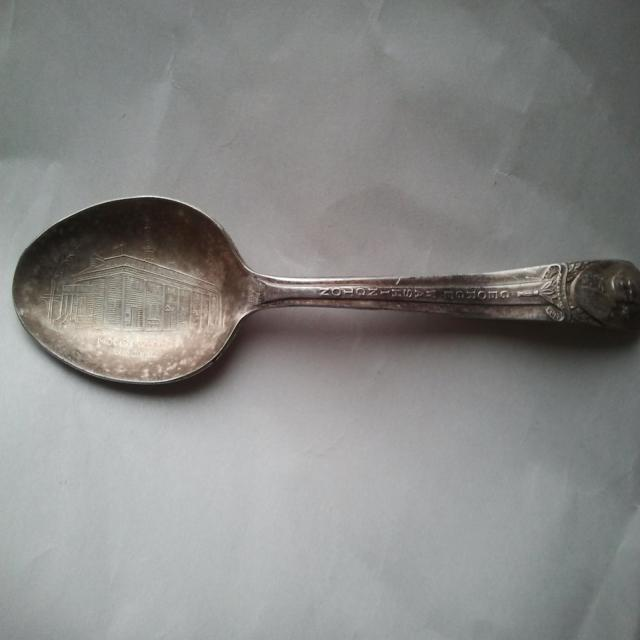spoon: (0, 178, 640, 393)
